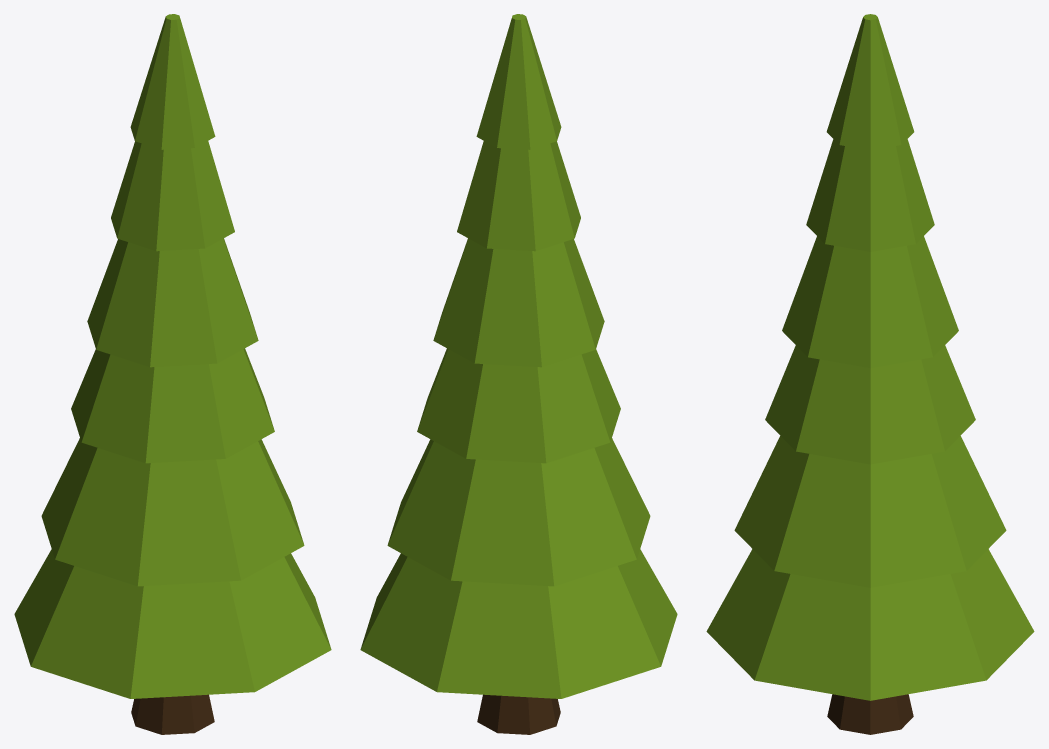
Rendered from Tree.fbx.
The picture shows the model from 3 angles, left to right: view 1: azimuth 30°, elevation 25°; view 2: azimuth 150°, elevation 25°; view 3: azimuth 270°, elevation 25°; orthographic projection.
Visible parts, largest first — view 1: Cylinder; view 2: Cylinder; view 3: Cylinder.
Boxes of the visible parts, bbox=[...] form: Cylinder: bbox=[14, 14, 331, 734]; Cylinder: bbox=[360, 14, 677, 734]; Cylinder: bbox=[706, 14, 1034, 734].
Size of the model in its own units: 4.19 by 9.86 by 4.19.
